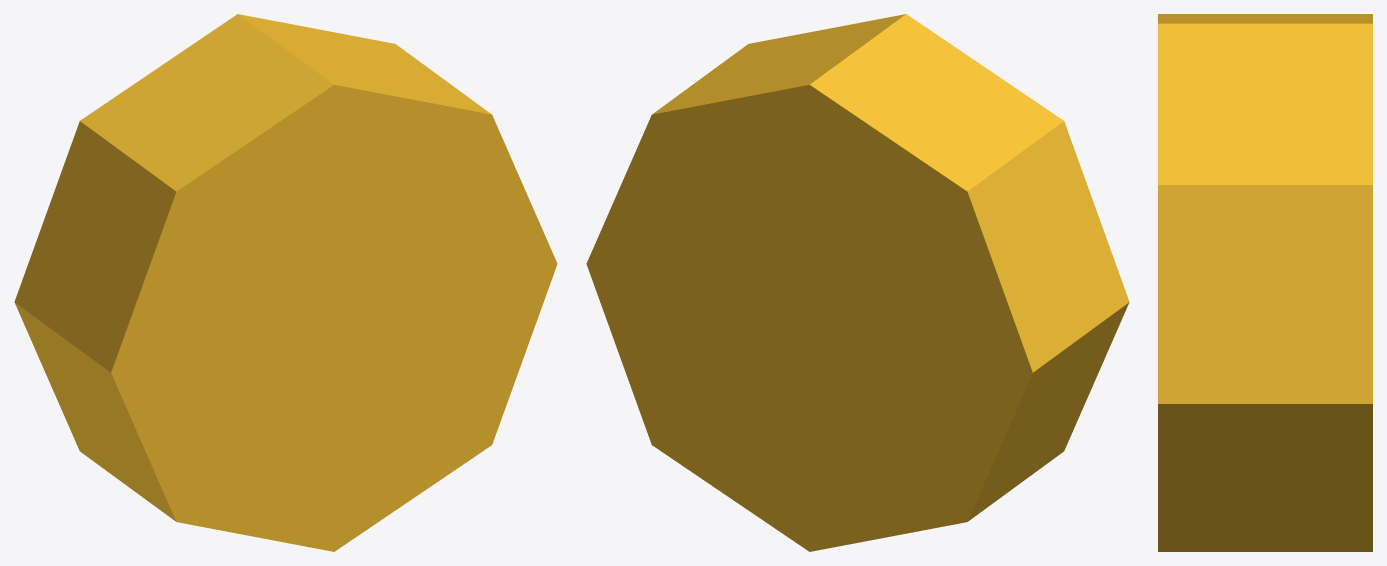
File: body.obj
3 renders of one model, left to right at view 1: azimuth 30°, elevation 25°; view 2: azimuth 150°, elevation 25°; view 3: azimuth 270°, elevation 25°, orthographic. The views are drawn at different scales.
Size of the model in its own units: 0.08 by 0.08 by 0.03.
